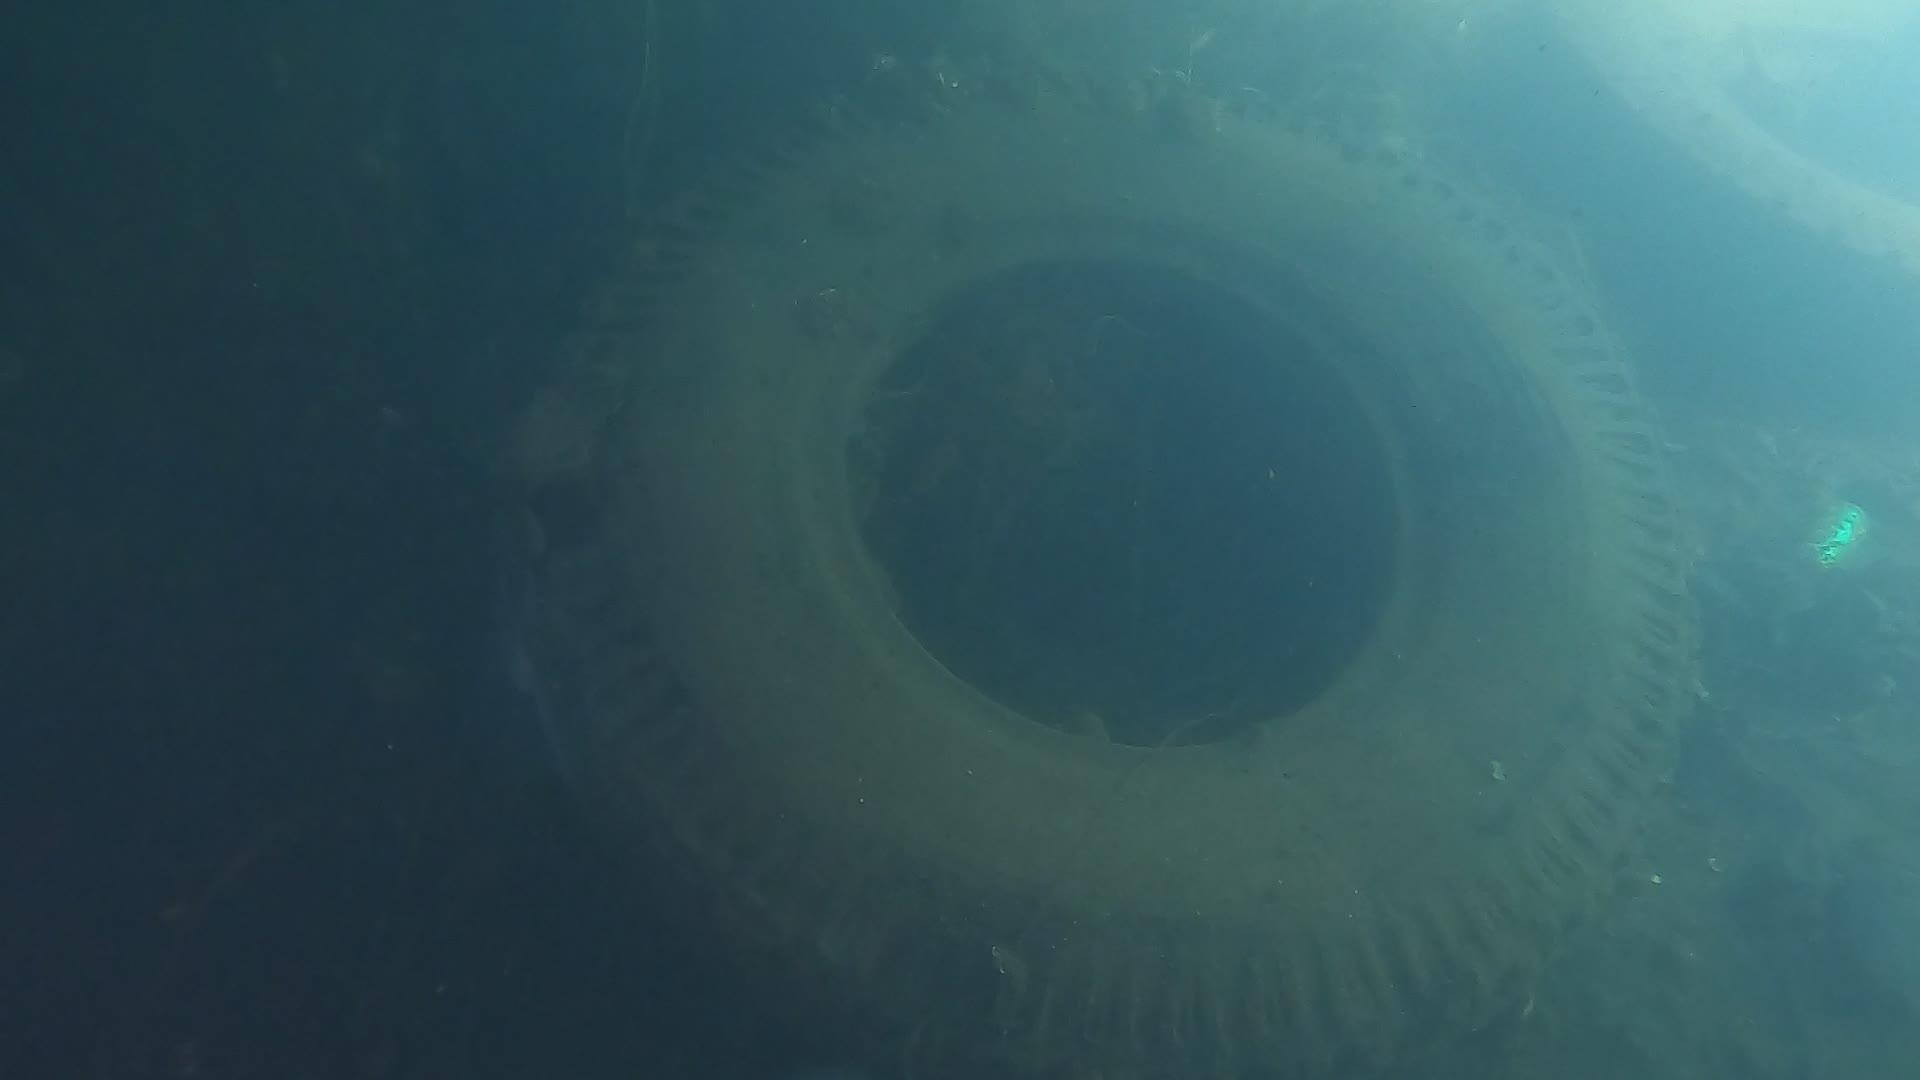tire: (491, 63, 1710, 1080)
